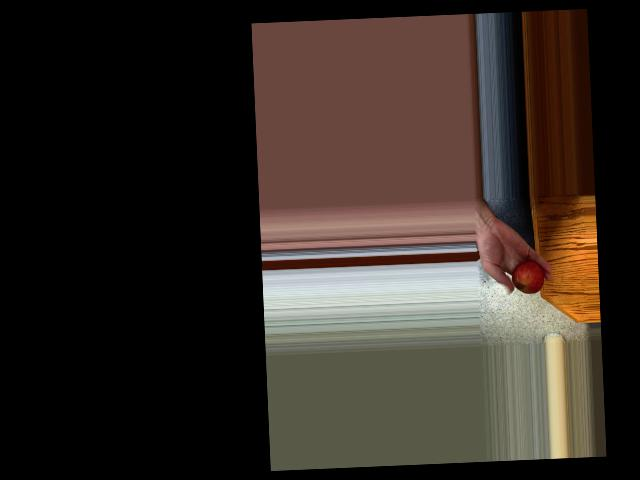apple: (508, 258, 543, 294)
